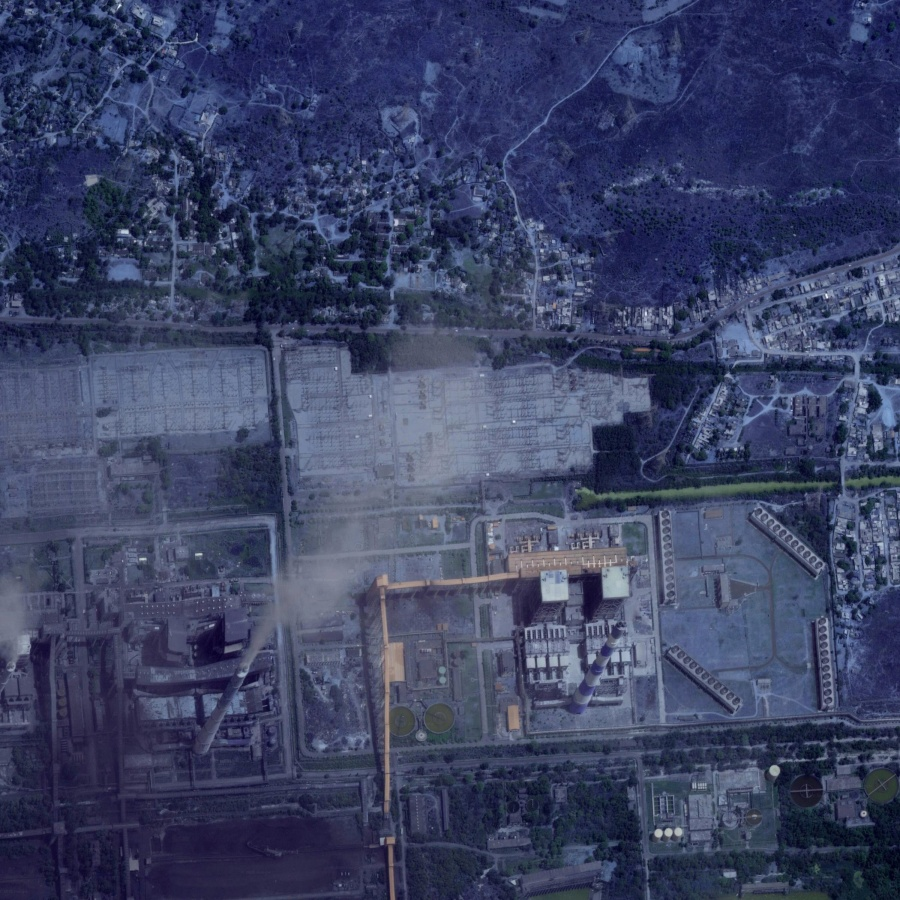PowerPlant: (517, 548, 641, 728)
